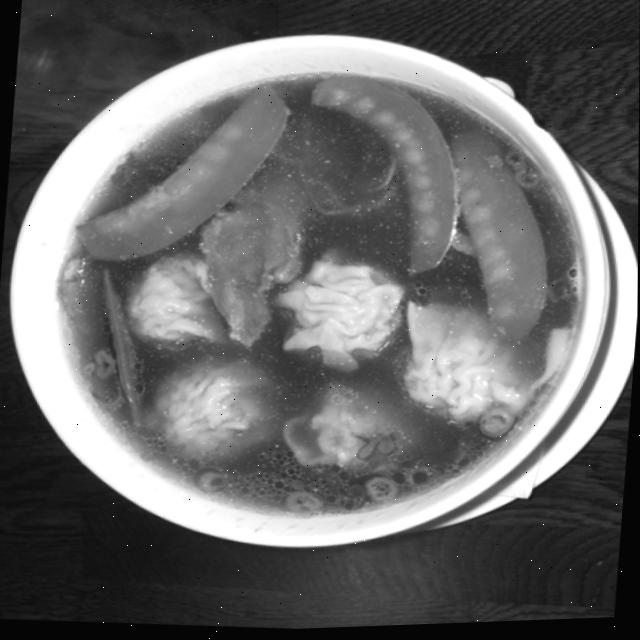汤锅炖物: (11, 18, 612, 582)
